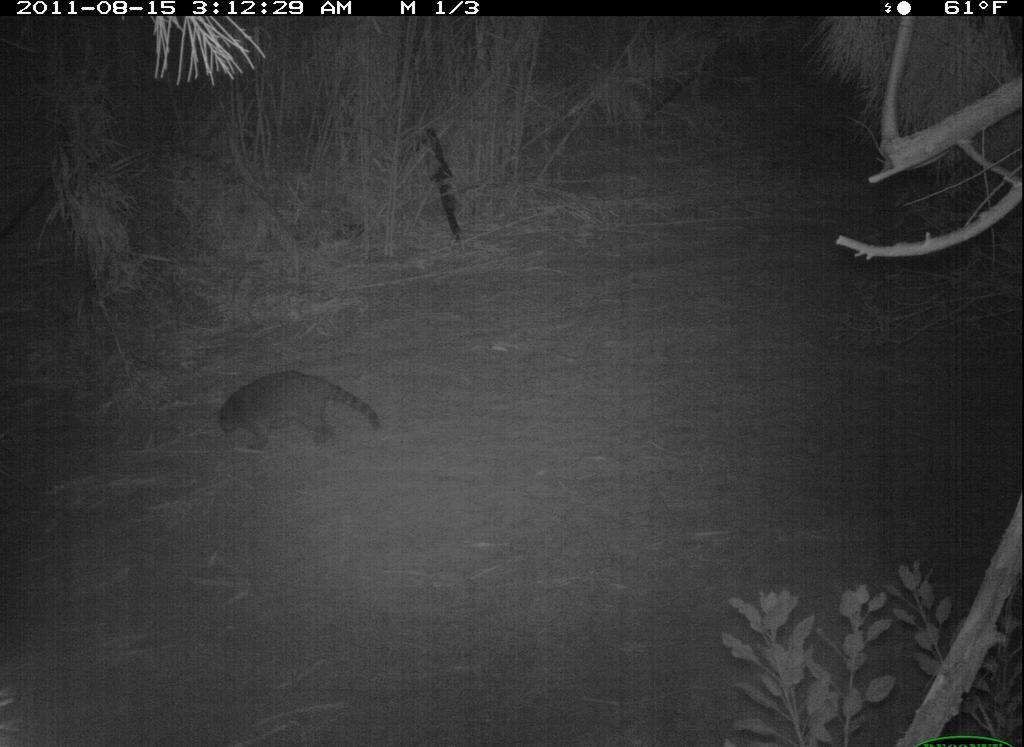raccoon: (219, 353, 390, 450)
